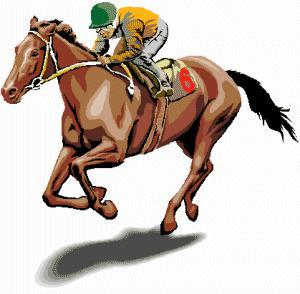horse: (1, 15, 287, 240)
person: (78, 4, 178, 106)
